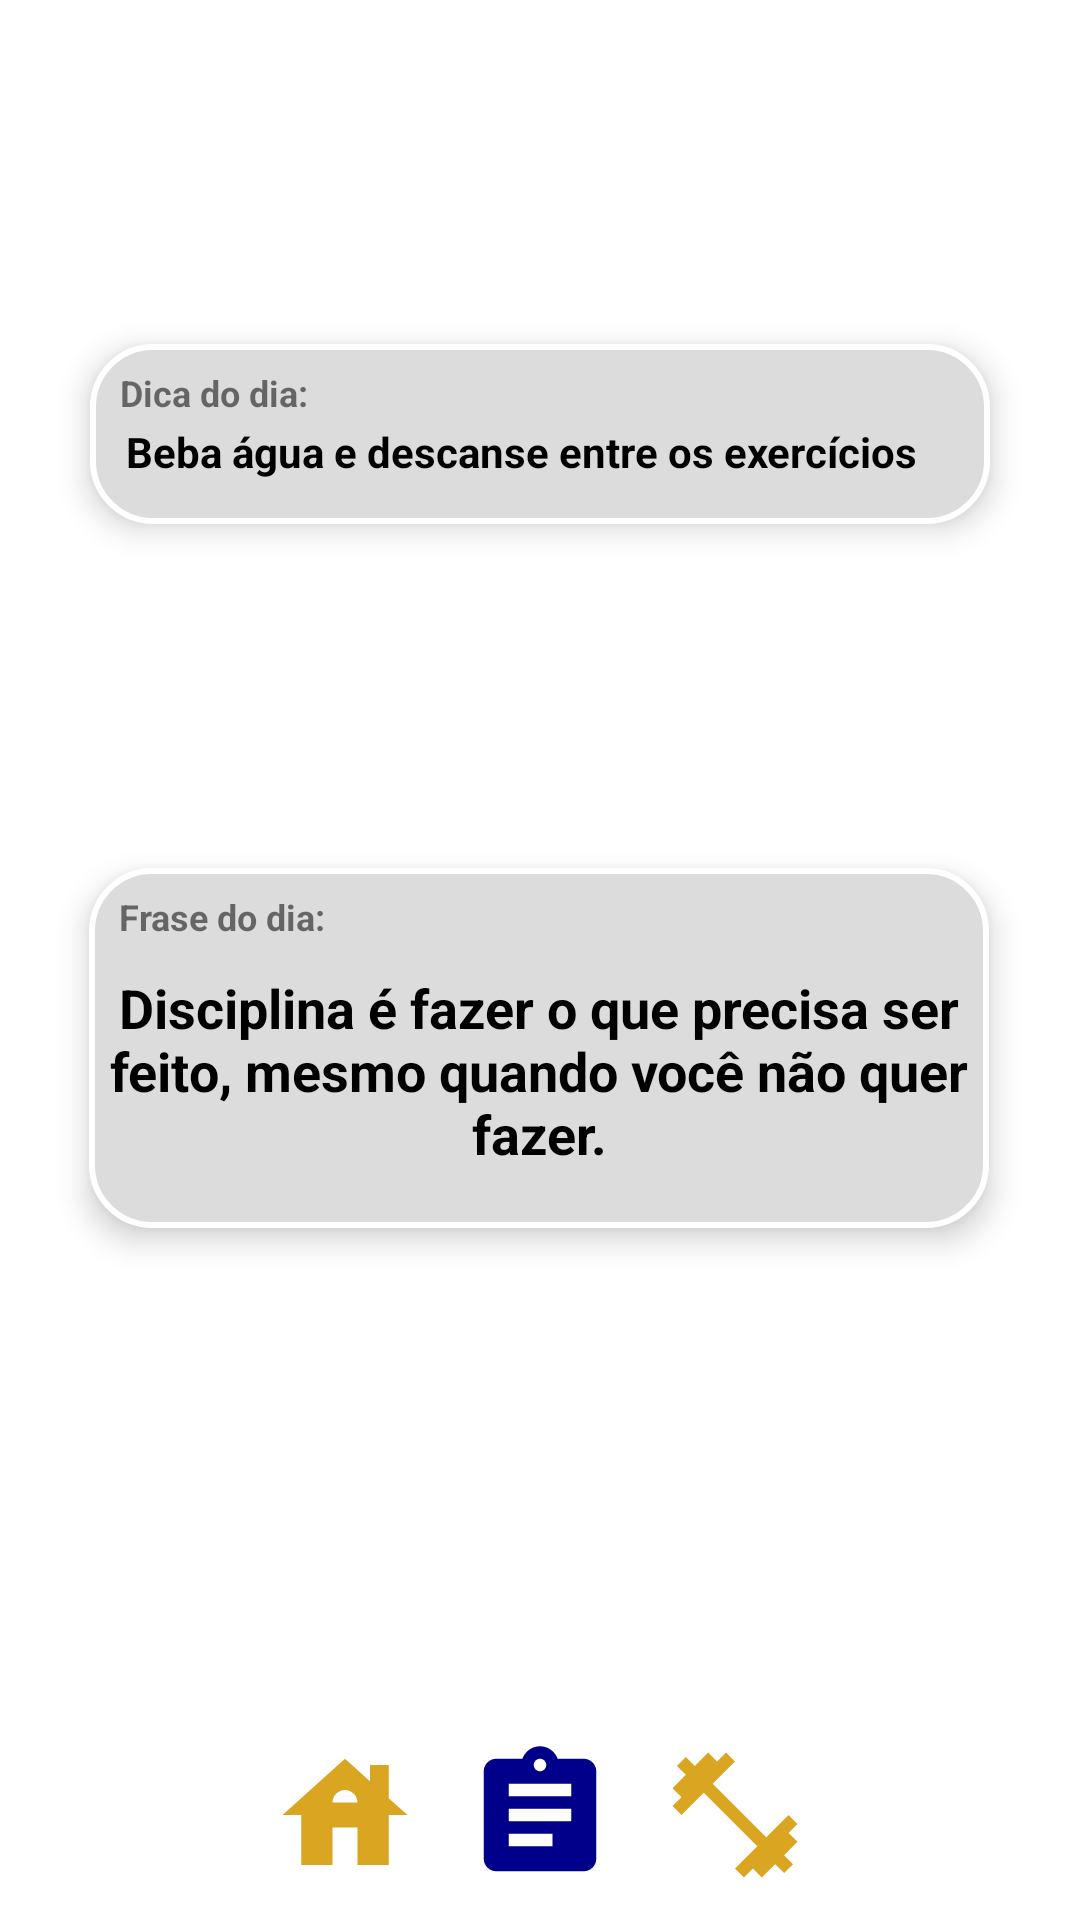

Where icons sit on this 1080w x 1920h app screen, as Rect(x1, y1, x2, y2):
exercise: Rect(672, 1752, 798, 1878)
home: Rect(283, 1759, 407, 1865)
